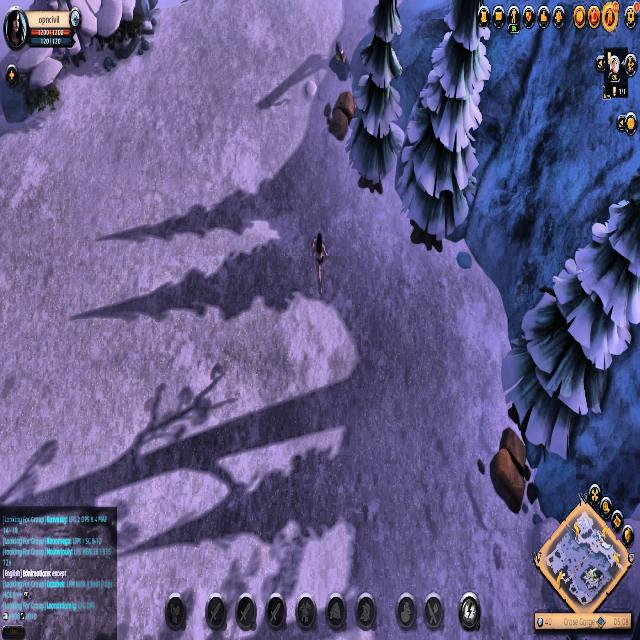copper_ore: (328, 36, 354, 83)
limestone: (487, 425, 536, 516), (324, 84, 358, 144)
